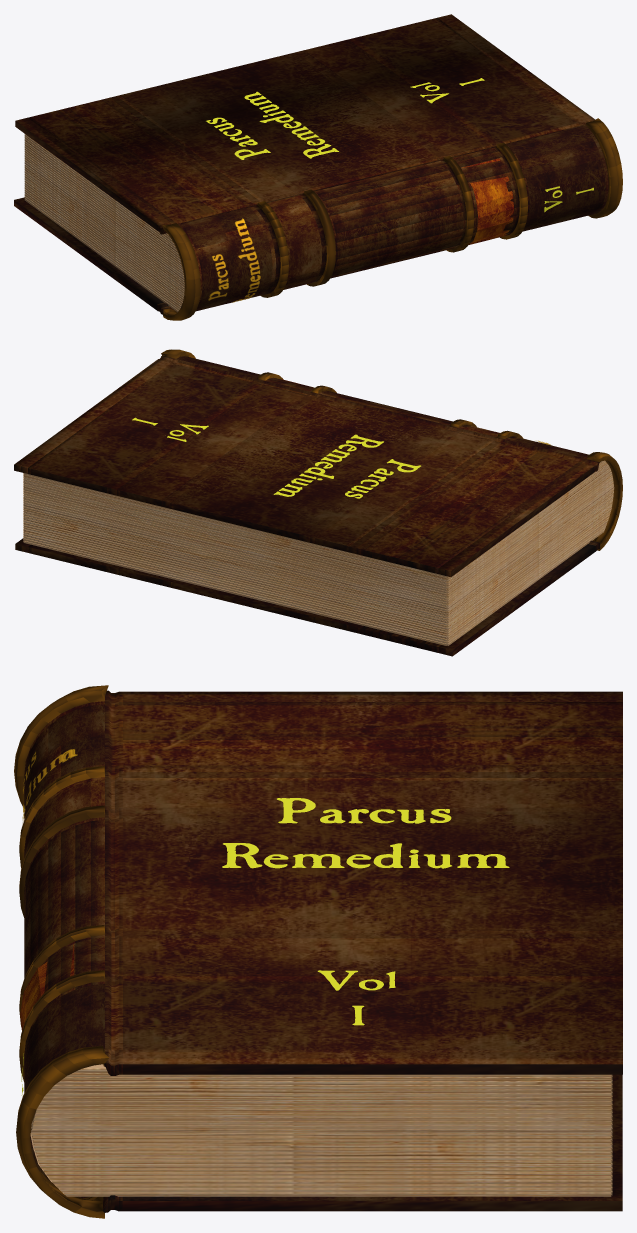
3 views of the same model, one above another, from view 1: azimuth 30°, elevation 25°; view 2: azimuth 150°, elevation 25°; view 3: azimuth 270°, elevation 25° (orthographic). The views are drawn at different scales.
Parts seen in each view (by area): view 1: cover (×2), pages, 1a9, Text, PM; view 2: cover (×2), pages, Text; view 3: cover (×2), pages, Text, 1a9, Text.001.
Part boxes in pixels (x1,y1,x2,y2): cover (×2): [14, 14, 622, 320]; pages: [24, 134, 184, 312]; 1a9: [462, 158, 513, 244]; Text: [206, 91, 338, 159]; PM: [208, 218, 260, 302]; cover (×2): [14, 349, 622, 656]; pages: [23, 460, 614, 645]; Text: [273, 434, 420, 498]; cover (×2): [14, 685, 622, 1218]; pages: [30, 1064, 612, 1196]; Text: [222, 798, 509, 868]; 1a9: [20, 944, 73, 1030]; Text.001: [317, 970, 395, 1025].
Size of what is drawn, in the model's own units: 10.67 by 2.19 by 7.35.
6 materials, 4 textured.
